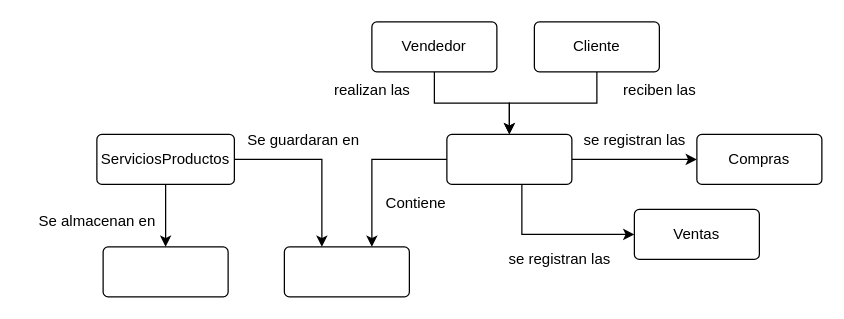
Image size: 844x319. Some labels were removed from this diagram. The centre of each missing label's shape, as x and y in pixels:
"DetalleFactura" belongs at point 346,271.
"Factura" belongs at point 509,158.
"Inventario" belongs at point 165,271.
